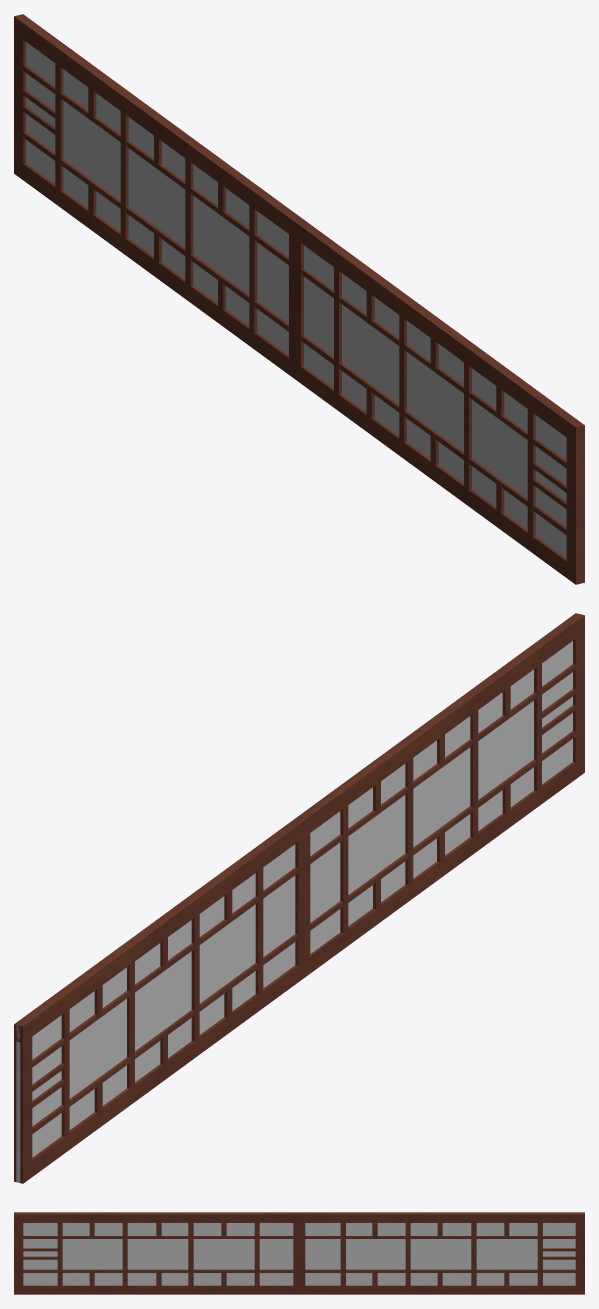
The model's file is SM_Window07E.fbx.
The picture shows the model from 3 angles, top to bottom: view 1: azimuth 30°, elevation 25°; view 2: azimuth 150°, elevation 25°; view 3: azimuth 270°, elevation 25°; orthographic projection. The views are drawn at different scales.
Visible parts, largest first — view 1: SM_Window07E; view 2: SM_Window07E; view 3: SM_Window07E.
Boxes of the visible parts, bbox=[...] form: SM_Window07E: bbox=[14, 14, 584, 584]; SM_Window07E: bbox=[14, 613, 584, 1183]; SM_Window07E: bbox=[14, 1212, 584, 1294].
Size of the model in its own units: 2.54 by 270 by 41.72.
Materials: 2 (1 with a texture image).
